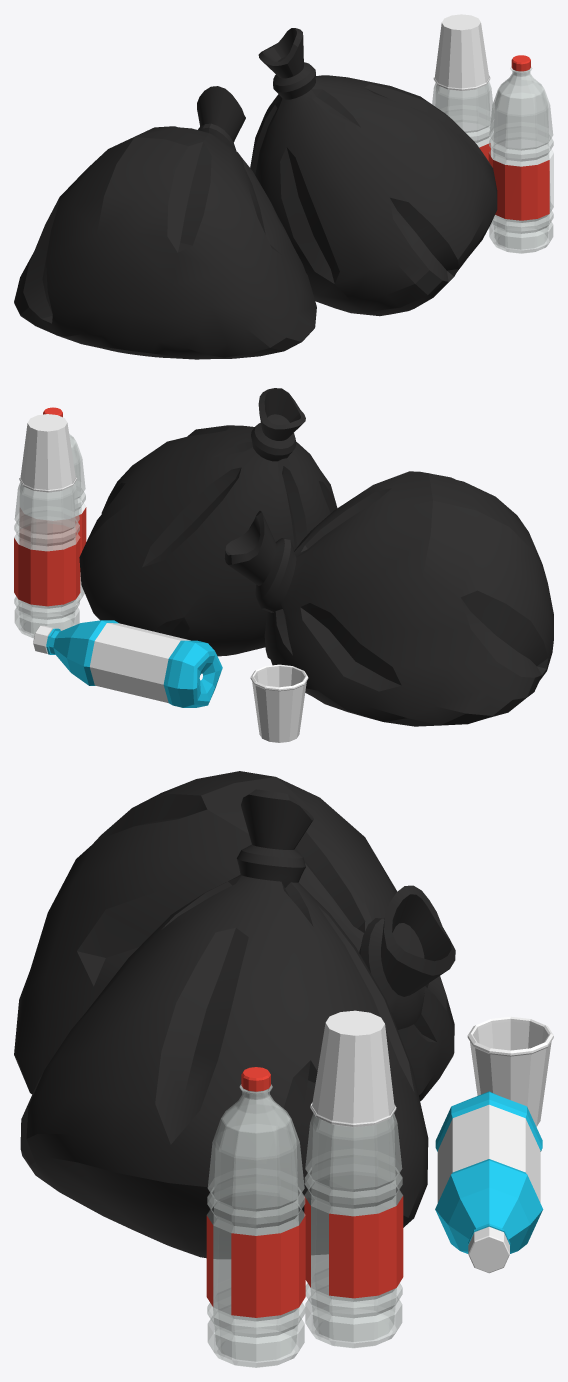
The model's file is TrashPlastic.glb.
3 views of the same model, one above another, from view 1: azimuth 30°, elevation 25°; view 2: azimuth 150°, elevation 25°; view 3: azimuth 270°, elevation 25° (orthographic). The views are drawn at different scales.
Parts seen in each view (by area): view 1: TrashBag_2, Bt02, Bs01, Bt01; view 2: TrashBag_2, Bt03, Bt01, Bs01, Bs02, Bt02; view 3: TrashBag_2, Bt02, Bt01, Bt03, Bs01, Bs02.
Part boxes in pixels (x1,y1,x2,y2): TrashBag_2: (14,28,497,359); Bt02: (488,67,553,253); Bs01: (433,14,490,90); Bt01: (432,81,493,229); TrashBag_2: (79,388,553,726); Bt03: (33,620,222,707); Bt01: (14,482,80,638); Bs01: (19,414,76,492); Bs02: (250,664,308,742); Bt02: (20,434,86,603); TrashBag_2: (14,771,455,1258); Bt02: (206,1084,305,1367); Bt01: (304,1113,403,1348); Bt03: (435,1091,543,1273); Bs01: (310,1010,396,1127); Bs02: (467,1016,553,1126).
Bounding box in the file's own units: 1.06 × 0.53 × 0.6412.
9 materials, 1 textured.
